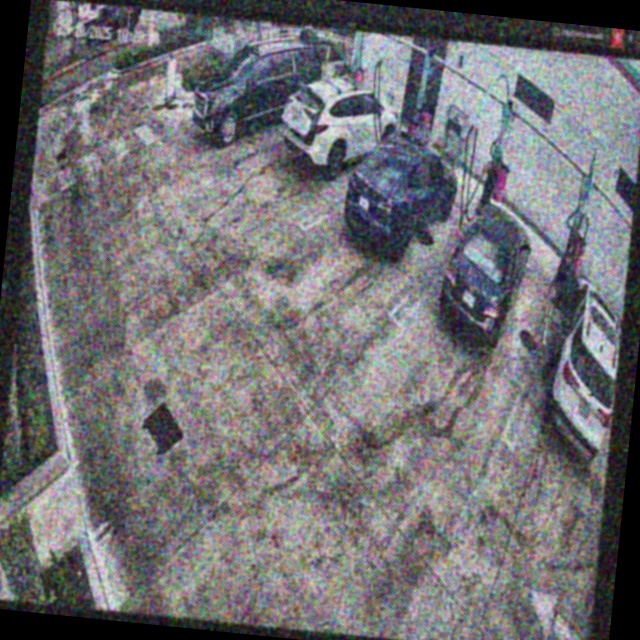Car: (342, 123, 462, 264), (437, 200, 536, 349), (278, 67, 403, 180)
